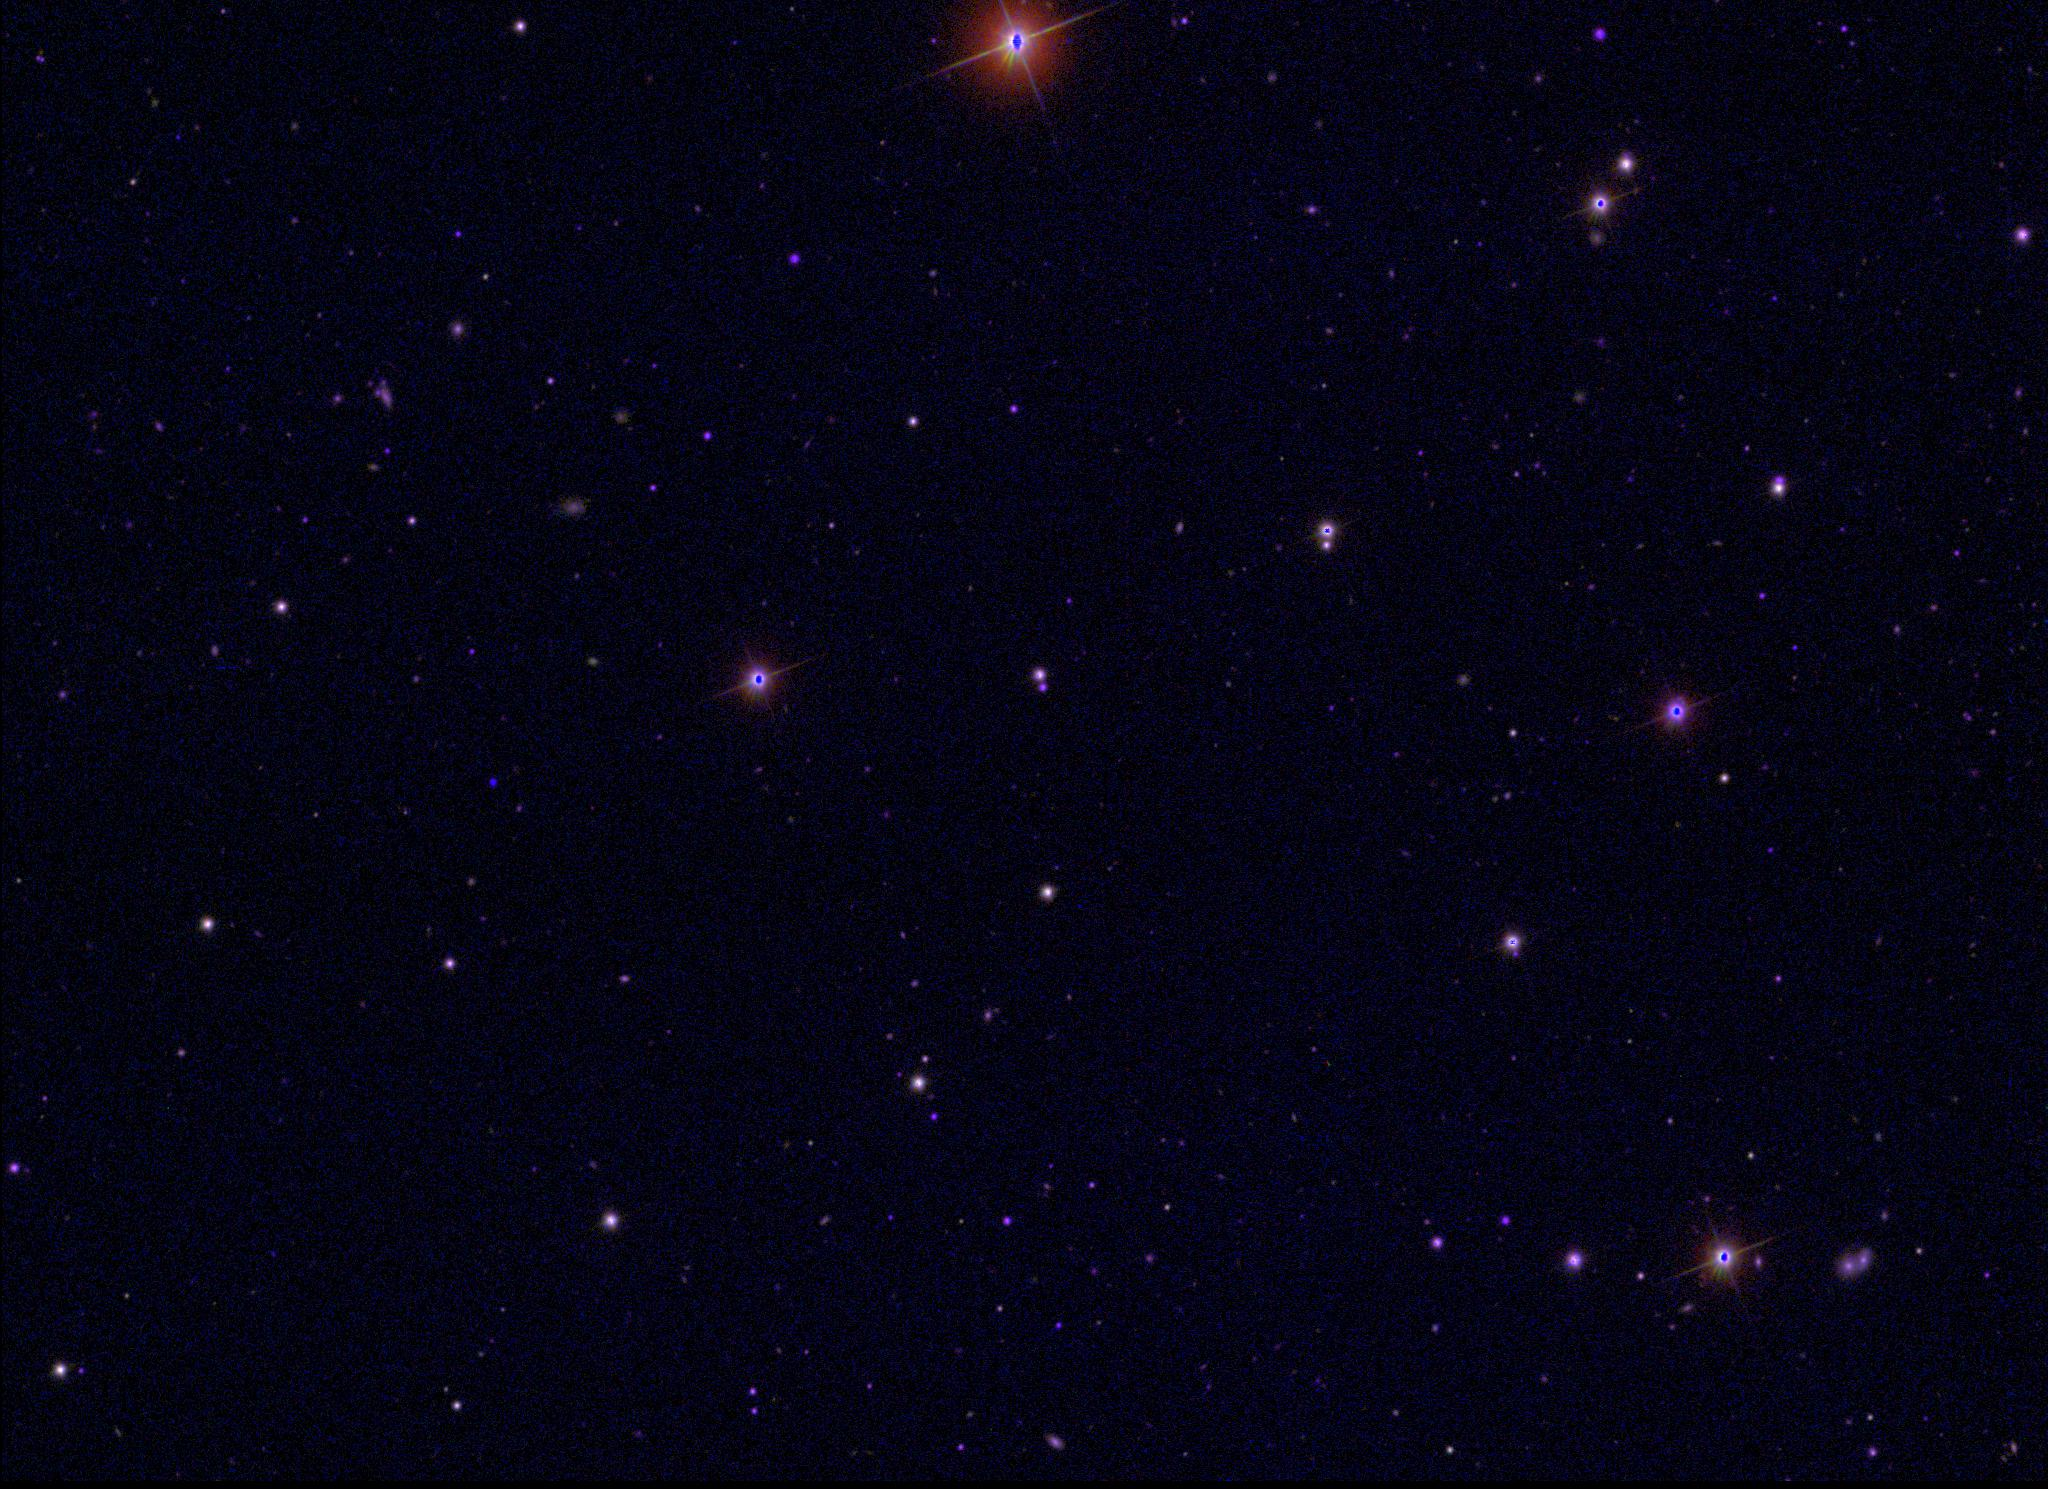L: (487, 775, 499, 787)
